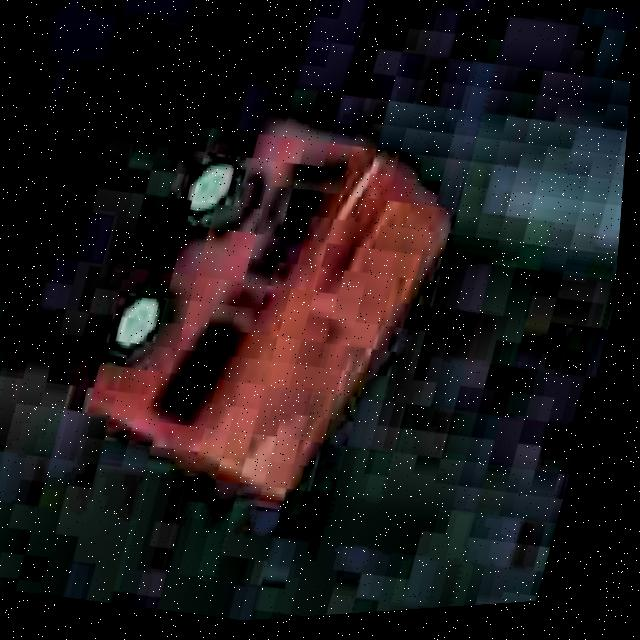bus: (40, 73, 492, 553)
